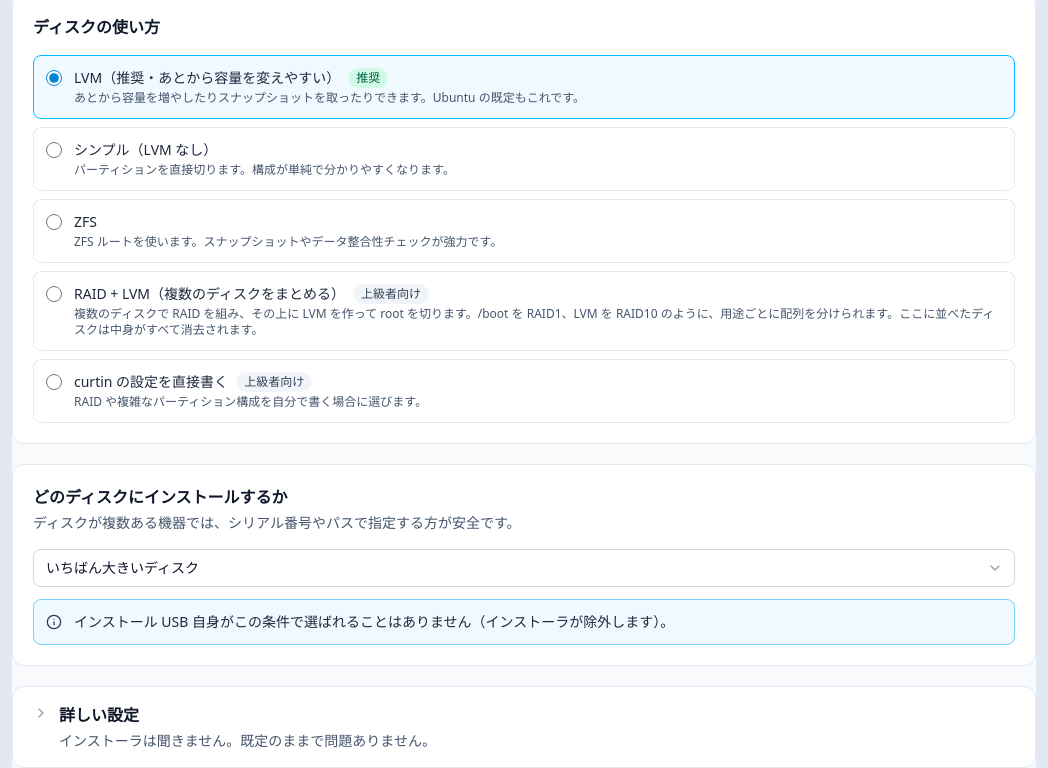
Scenario: 「ディスク全体を使う」を LVM の外へ持ち出さない › LVM へ戻しても勝手に有効へ戻らない（消した値が復活しない）
(page scrolled)
Click the button "詳しい設定 インストーラは聞きません。既定のままで問題ありません。" at (99, 715), box [13,687,1035,767]
(page scrolled)
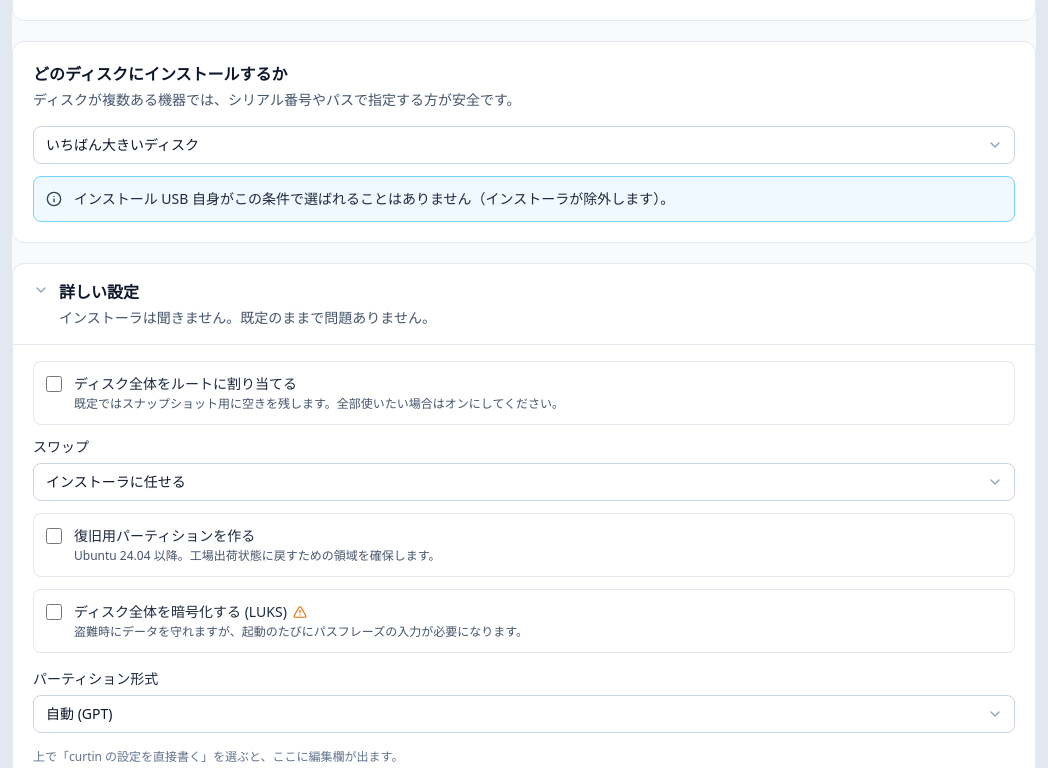
Click the checkbox labelled "ディスク全体をルートに割り当てる 既定ではスナップショット用に空きを残します。全部使いたい場合はオンにしてください。" at (54, 384), box [46,376,62,392]
(page scrolled)
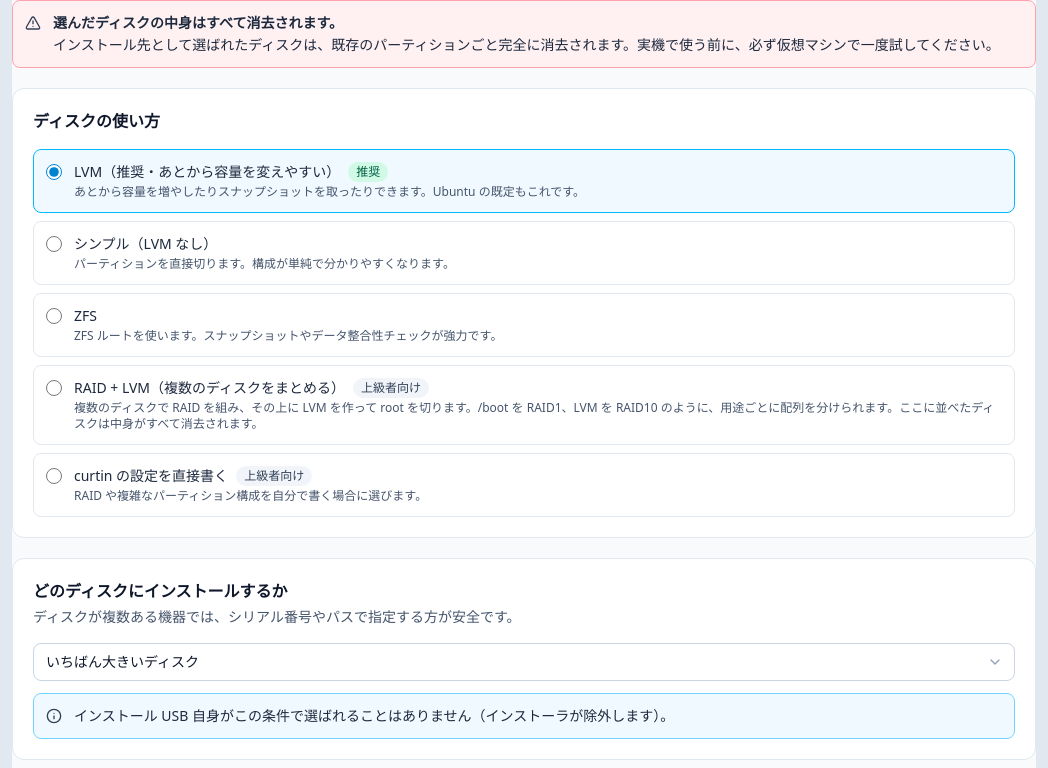
Click the radio button labelled "シンプル（LVM なし） パーティションを直接切ります。構成が単純で分かりやすくなります。" at (54, 244), box [46,236,62,252]
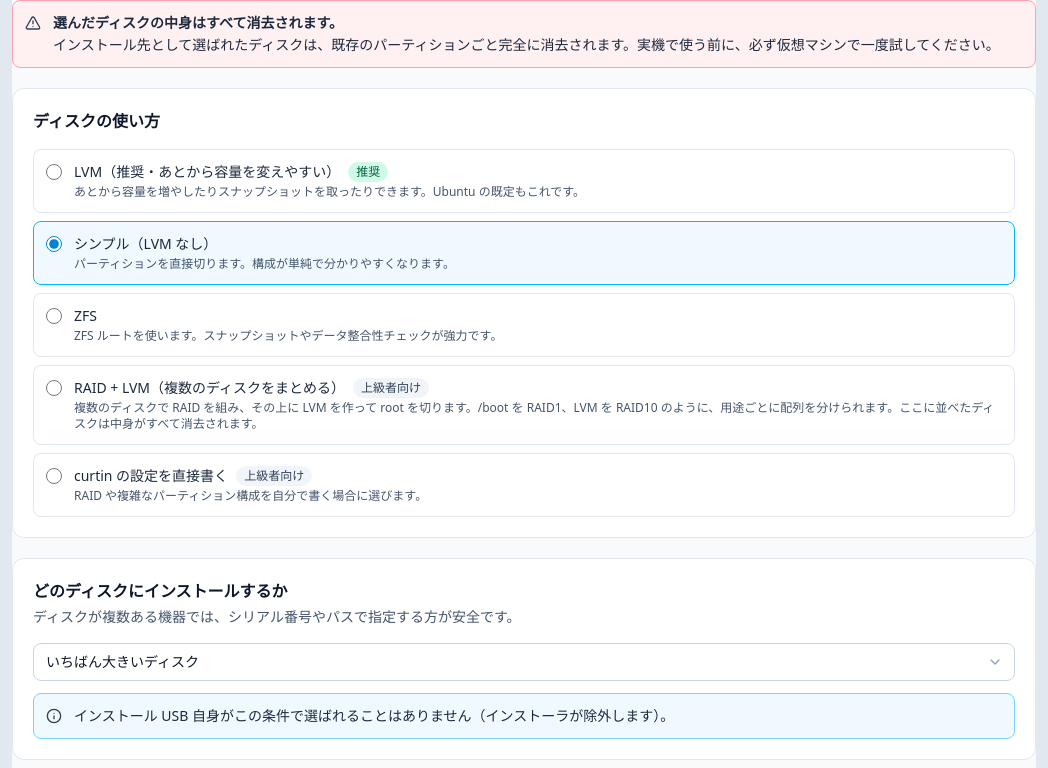
Click the 1st radio button at (54, 172), box [46,164,62,180]
(page scrolled)
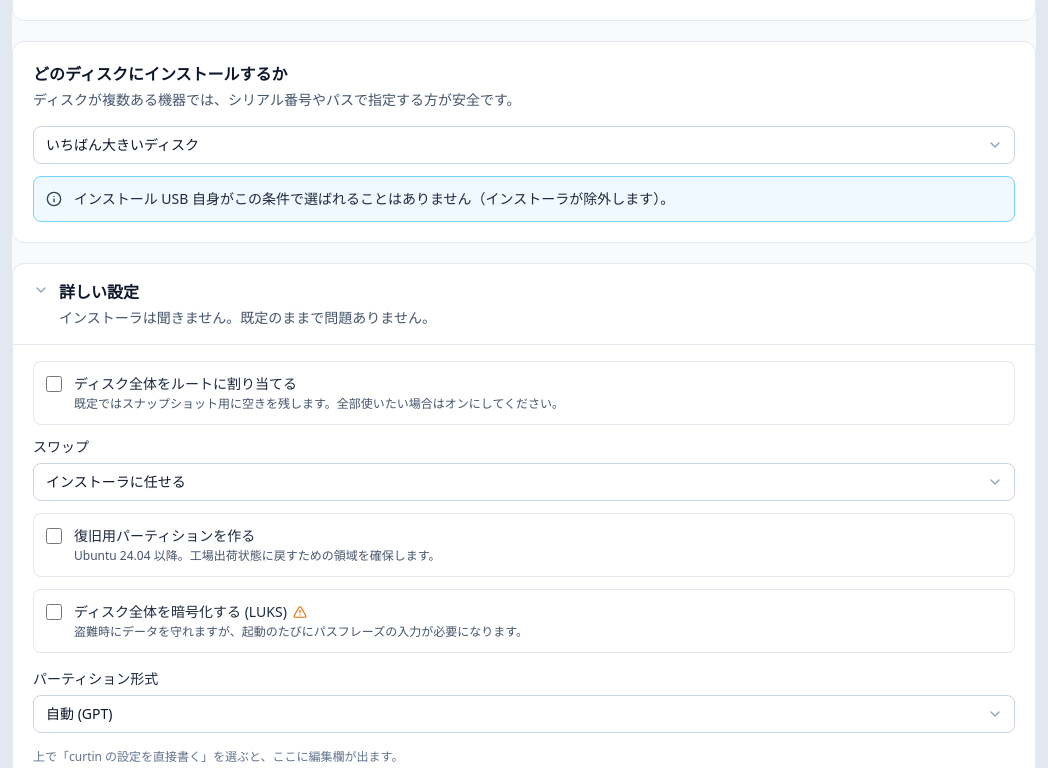
Expected: the checkbox labelled "ディスク全体をルートに割り当てる 既定ではスナップショット用に空きを残します。全部使いたい場合はオンにしてください。" is not checked, [46,376,62,392]
